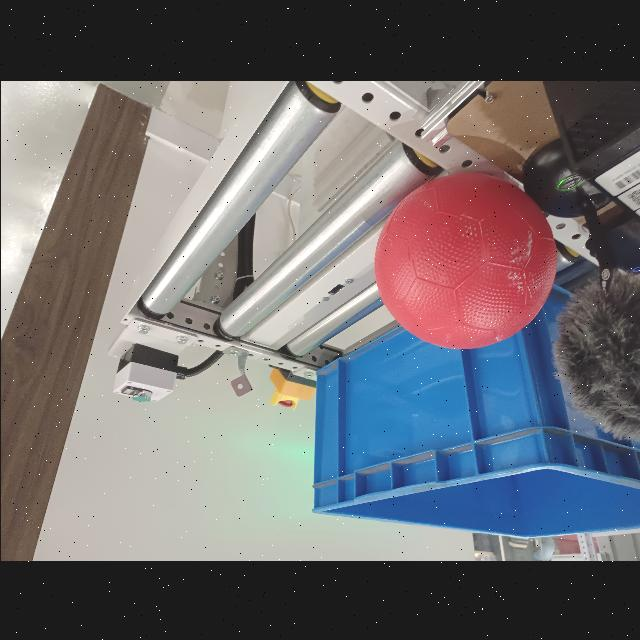R: (370, 168, 560, 352)
